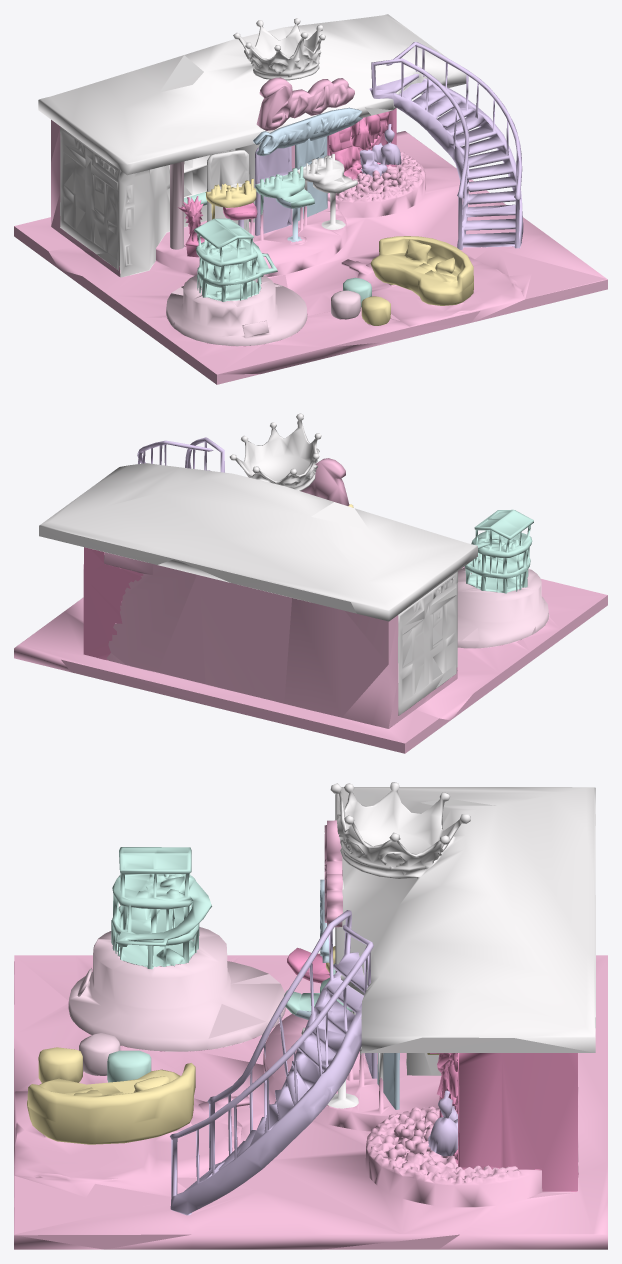
Rendered from casa_barbie.glb.
The picture shows the model from 3 angles, top to bottom: view 1: azimuth 30°, elevation 25°; view 2: azimuth 150°, elevation 25°; view 3: azimuth 270°, elevation 25°; orthographic projection. The views are drawn at different scales.
Visible parts, largest first — view 1: tripo_part_0; view 2: tripo_part_0; view 3: tripo_part_0.
Boxes of the visible parts, left/top/right/bottom form: tripo_part_0: left=14, top=14, right=607, bottom=384; tripo_part_0: left=14, top=413, right=607, bottom=753; tripo_part_0: left=14, top=782, right=607, bottom=1249.
Size of the model in its own units: 0.9804 by 0.5361 by 0.8812.
